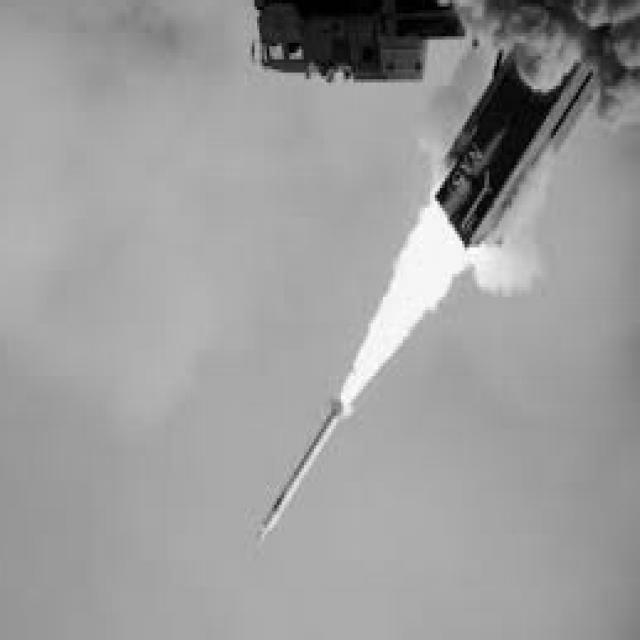missile: (245, 399, 362, 541)
